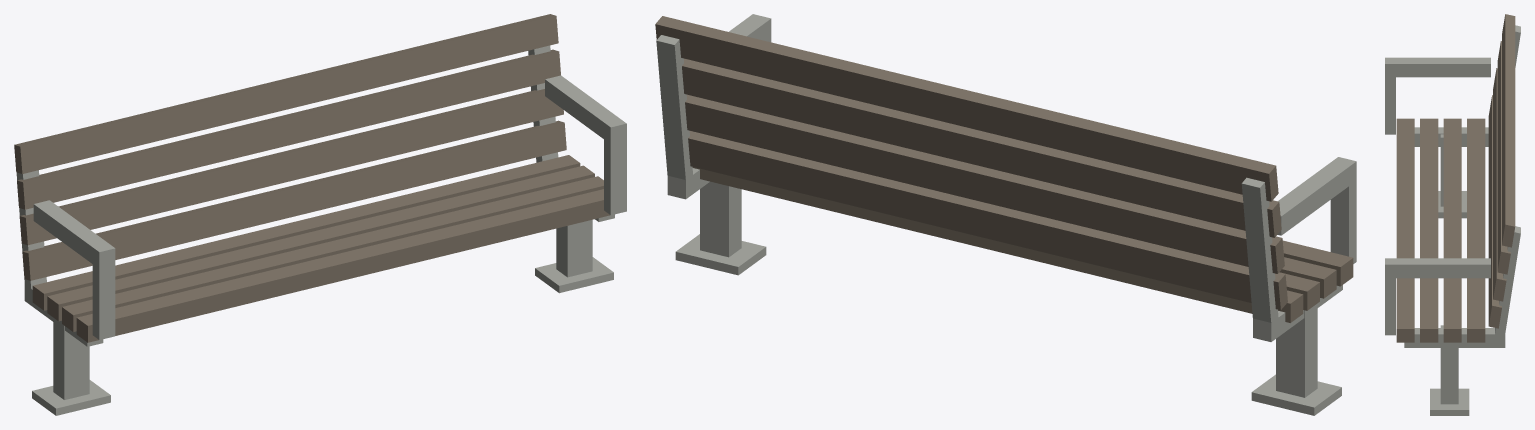
File: school_bench.fbx
3 renders of one model, left to right at view 1: azimuth 30°, elevation 25°; view 2: azimuth 150°, elevation 25°; view 3: azimuth 270°, elevation 25°, orthographic. The views are drawn at different scales.
Parts seen in each view (by area): view 1: pCube534, pCube533, pCube539, pCube536, pCube540, pCube538, pCube537, pCube541, pCube542, pCube535; view 2: pCube534, pCube533, pCube539, pCube542, pCube535, pCube540, pCube538, pCube537, pCube541, pCube536; view 3: pCube533, pCube534, pCube536, pCube539, pCube535, pCube538, pCube537, pCube542, pCube540, pCube541.
Part boxes in pixels (<box>): pCube534: <box>14,14,566,280</box>; pCube533: <box>32,155,609,342</box>; pCube539: <box>33,200,115,339</box>; pCube536: <box>545,75,626,215</box>; pCube540: <box>53,318,89,399</box>; pCube538: <box>556,219,592,277</box>; pCube537: <box>535,257,613,293</box>; pCube541: <box>32,380,110,415</box>; pCube542: <box>16,170,103,346</box>; pCube535: <box>528,45,614,221</box>; pCube534: <box>655,16,1287,310</box>; pCube533: <box>692,167,1353,322</box>; pCube539: <box>1277,157,1356,263</box>; pCube542: <box>1241,177,1342,341</box>; pCube535: <box>656,35,709,199</box>; pCube540: <box>1276,303,1317,397</box>; pCube538: <box>700,181,741,257</box>; pCube537: <box>675,234,766,275</box>; pCube541: <box>1251,374,1341,415</box>; pCube536: <box>729,14,771,42</box>; pCube533: <box>1396,118,1485,342</box>; pCube534: <box>1488,14,1515,328</box>; pCube536: <box>1385,258,1490,335</box>; pCube539: <box>1385,57,1490,134</box>; pCube535: <box>1404,226,1520,347</box>; pCube538: <box>1440,325,1458,404</box>; pCube537: <box>1430,388,1469,415</box>; pCube542: <box>1414,25,1520,146</box>; pCube540: <box>1440,134,1443,206</box>; pCube541: <box>1438,191,1466,218</box>.
Bounding box in the file's own units: 2.87 × 1.14 × 0.7517.
